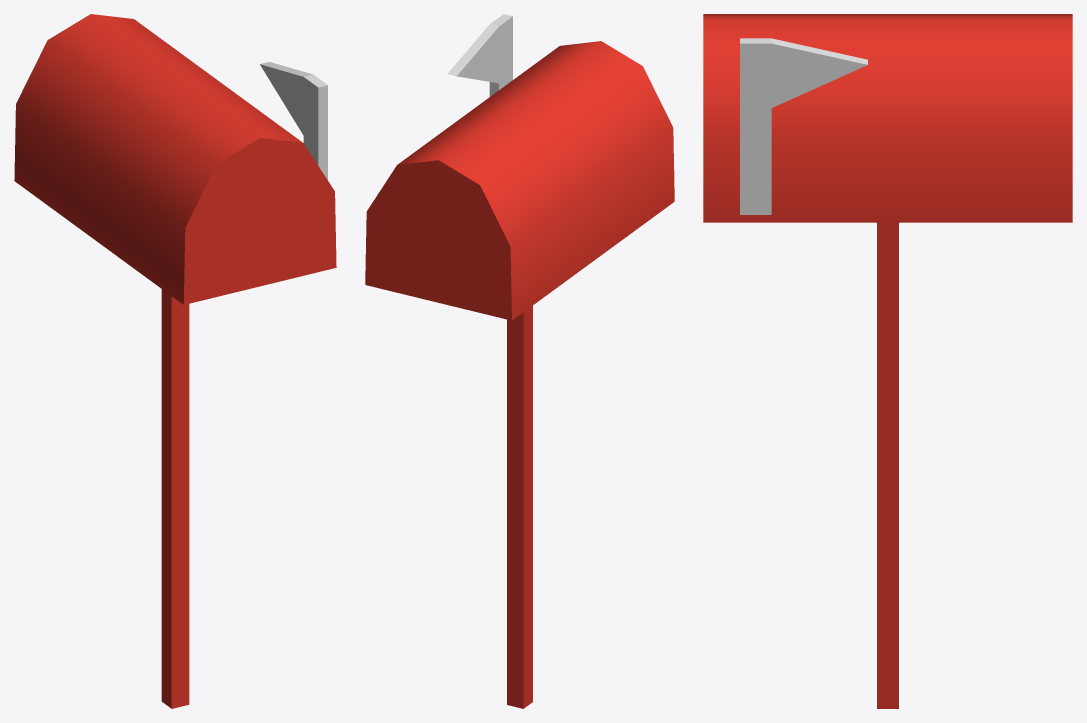
File: mailbox.glb
The picture shows the model from 3 angles, left to right: view 1: azimuth 30°, elevation 25°; view 2: azimuth 150°, elevation 25°; view 3: azimuth 270°, elevation 25°; orthographic projection. The views are drawn at different scales.
Parts seen in each view (by area): view 1: Mailbox; view 2: Mailbox; view 3: Mailbox.
Boxes of the visible parts, x1,y1,x2,y2 form: Mailbox: [14, 14, 336, 708]; Mailbox: [365, 14, 674, 708]; Mailbox: [703, 14, 1072, 708].
Size of the model in its own units: 0.4785 by 1.84 by 0.8708.
